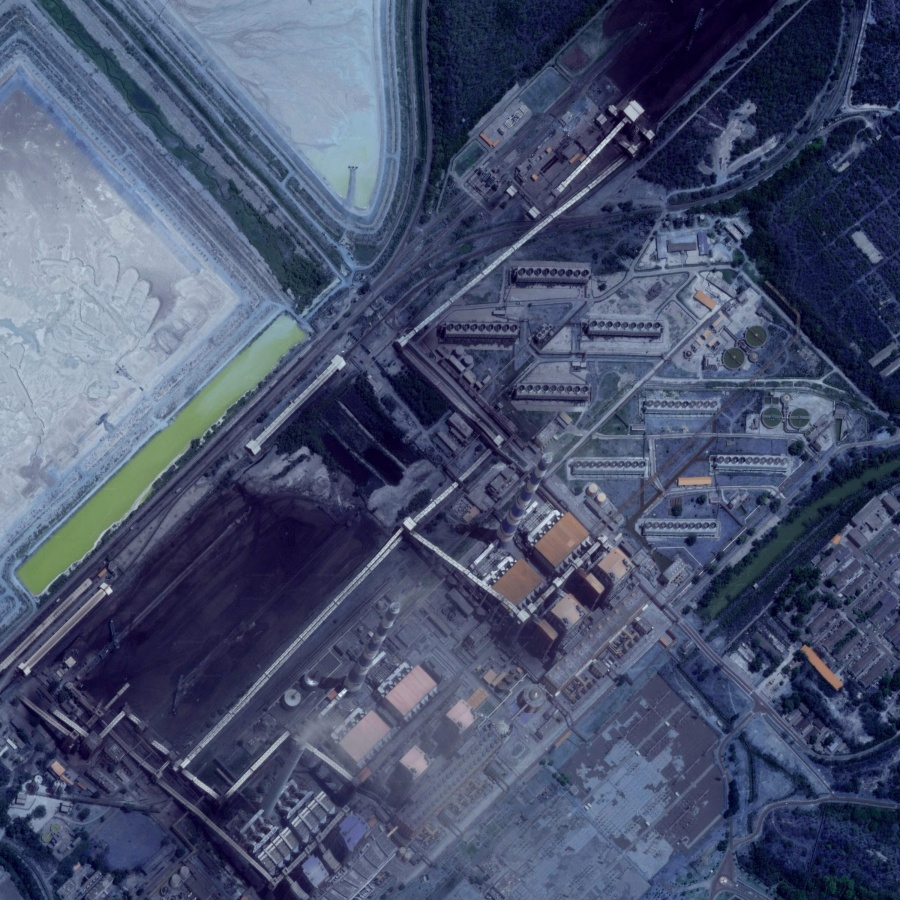PowerPlant: (5, 318, 530, 825)
